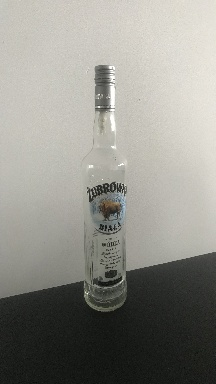butelka: (79, 61, 128, 316)
